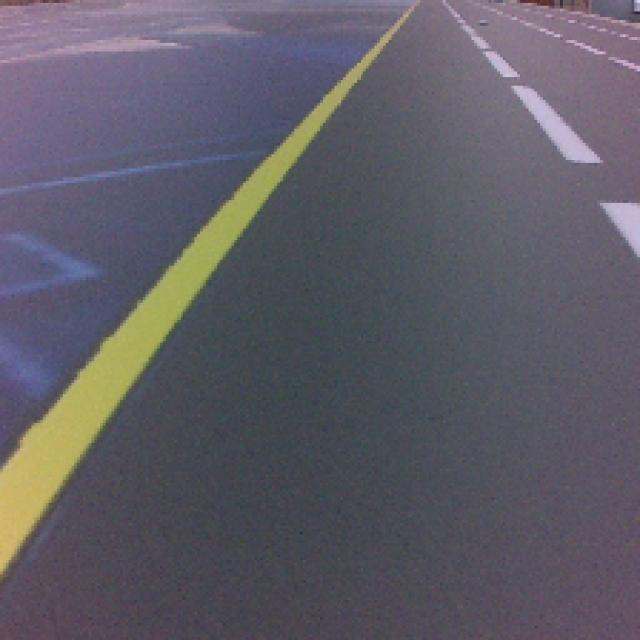Road: (0, 334, 639, 640)
